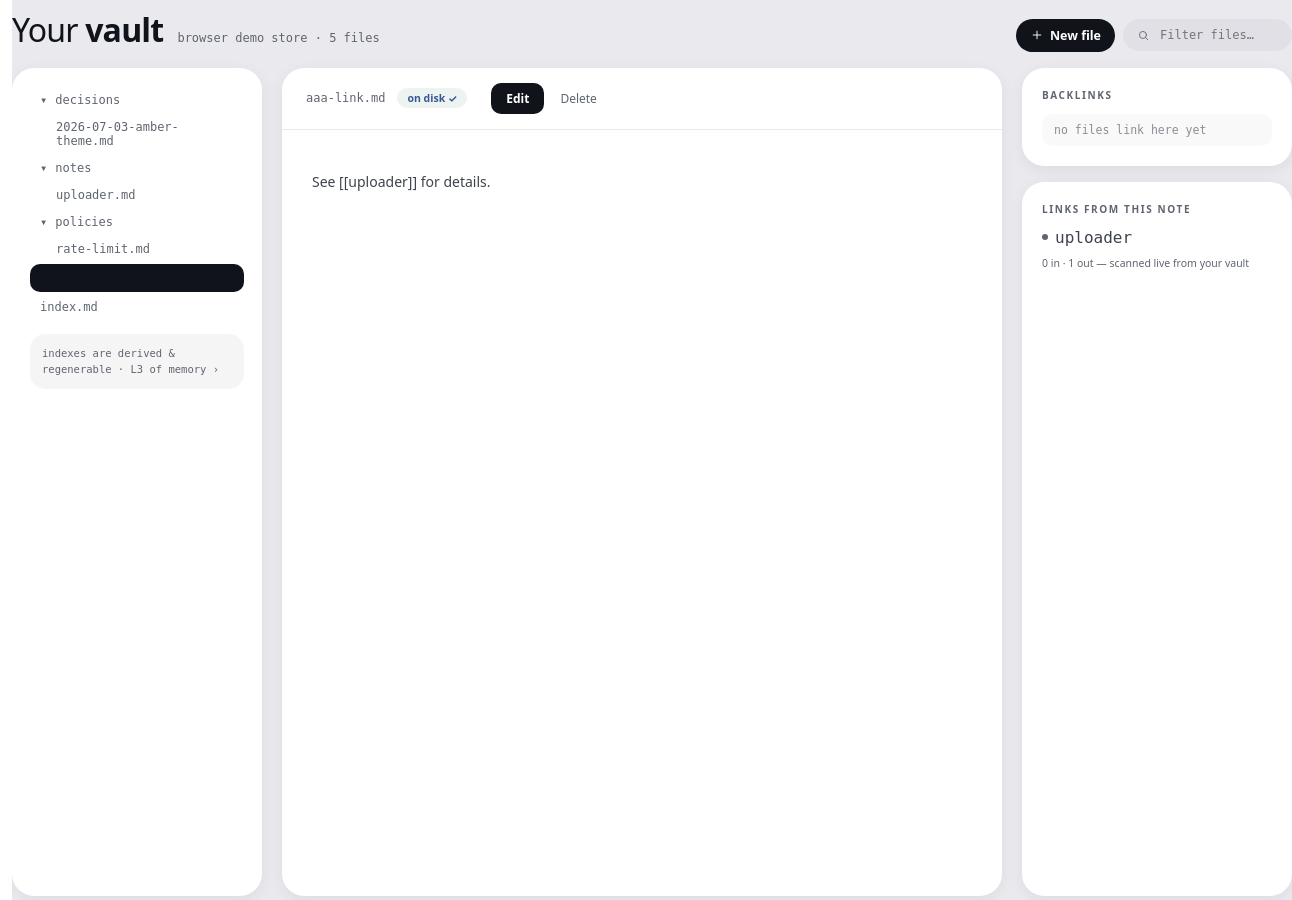
Scenario: Vault — outgoing links navigate to the target note › renders a resolvable outgoing link as a button that opens the target
// The outgoing link is a real button (not dead text).
Click the button "uploader" at (1157, 237), box left=1042, top=228, right=1272, bottom=246
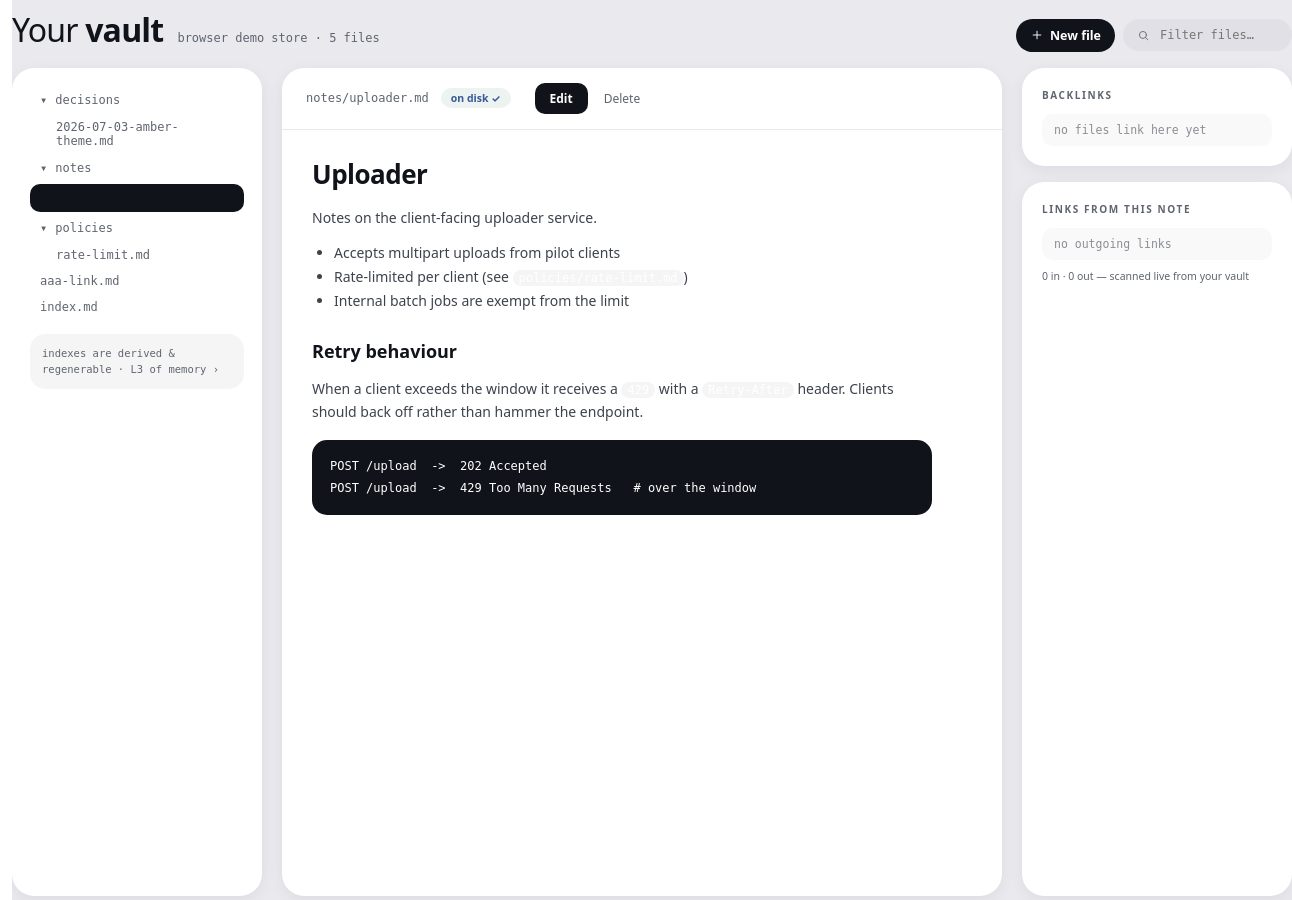
Now the heading "Uploader" is shown, box left=312, top=156, right=427, bottom=192
